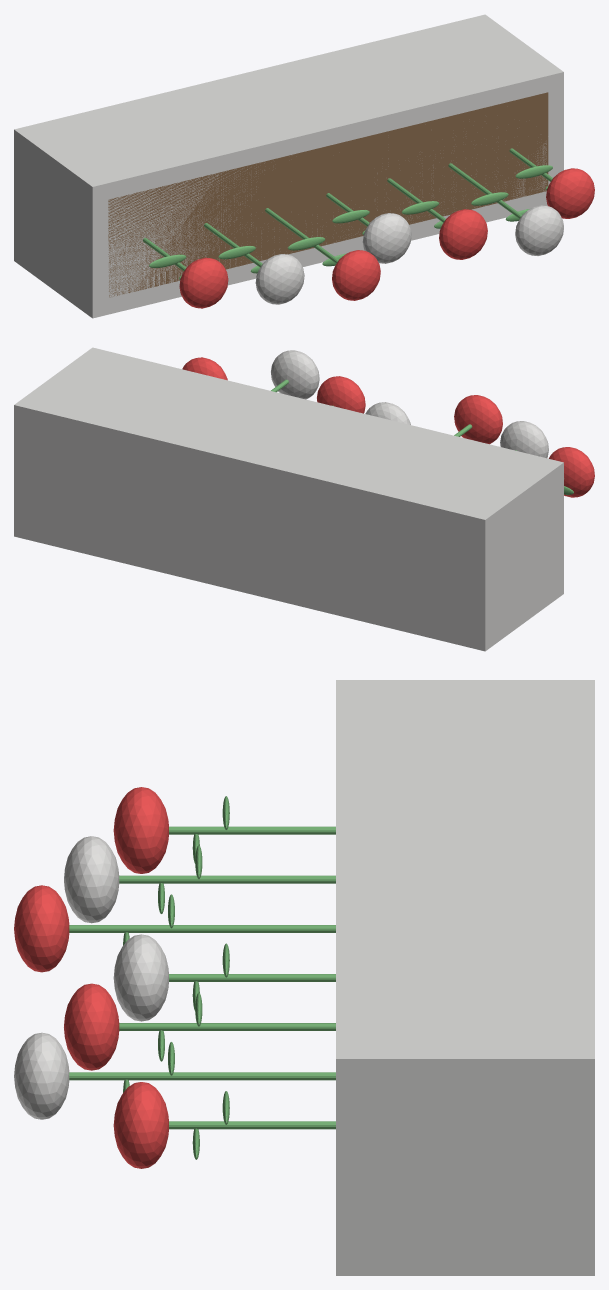
File: 431 AHSAP CICEKLIK - WOOD FLORAL.glb
The picture shows the model from 3 angles, top to bottom: view 1: azimuth 30°, elevation 25°; view 2: azimuth 150°, elevation 25°; view 3: azimuth 270°, elevation 25°; orthographic projection. The views are drawn at different scales.
Parts seen in each view (by area): view 1: box, inner_soil, flower_1, flower_2, flower_4, flower_0, flower_5, flower_3, flower_6, stem_2, stem_5; view 2: box, flower_5, flower_2, flower_0, flower_1, flower_4, flower_3, flower_6; view 3: box, flower_2, flower_5, flower_4, flower_1, flower_3, flower_0, flower_6, stem_5, stem_2, stem_1, stem_4 (+3 smaller).
Boxes of the visible parts, left/top/right/bottom form: box: left=14, top=14, right=563, bottom=318; inner_soil: left=108, top=92, right=548, bottom=297; flower_1: left=255, top=254, right=304, bottom=304; flower_2: left=332, top=250, right=380, bottom=300; flower_4: left=439, top=209, right=487, bottom=259; flower_0: left=179, top=257, right=228, bottom=308; flower_5: left=515, top=205, right=563, bottom=255; flower_3: left=362, top=213, right=411, bottom=263; flower_6: left=546, top=168, right=594, bottom=218; stem_2: left=265, top=208, right=338, bottom=263; stem_5: left=448, top=163, right=521, bottom=218; box: left=14, top=347, right=563, bottom=651; flower_5: left=271, top=350, right=319, bottom=399; flower_2: left=454, top=395, right=502, bottom=444; flower_0: left=549, top=447, right=594, bottom=497; flower_1: left=500, top=421, right=548, bottom=458; flower_4: left=317, top=376, right=365, bottom=413; flower_3: left=365, top=402, right=410, bottom=424; flower_6: left=182, top=357, right=227, bottom=380; box: left=336, top=680, right=594, bottom=1275; flower_2: left=14, top=885, right=69, bottom=972; flower_5: left=14, top=1032, right=69, bottom=1119; flower_4: left=64, top=983, right=119, bottom=1070; flower_1: left=64, top=836, right=119, bottom=923; flower_3: left=113, top=934, right=168, bottom=1021; flower_0: left=113, top=787, right=168, bottom=873; flower_6: left=113, top=1082, right=168, bottom=1168; stem_5: left=69, top=1072, right=335, bottom=1080; stem_2: left=69, top=925, right=335, bottom=932; stem_1: left=119, top=875, right=335, bottom=883; stem_4: left=119, top=1023, right=335, bottom=1030.
Size of the model in its own units: 0.9 by 0.24 by 0.583.
